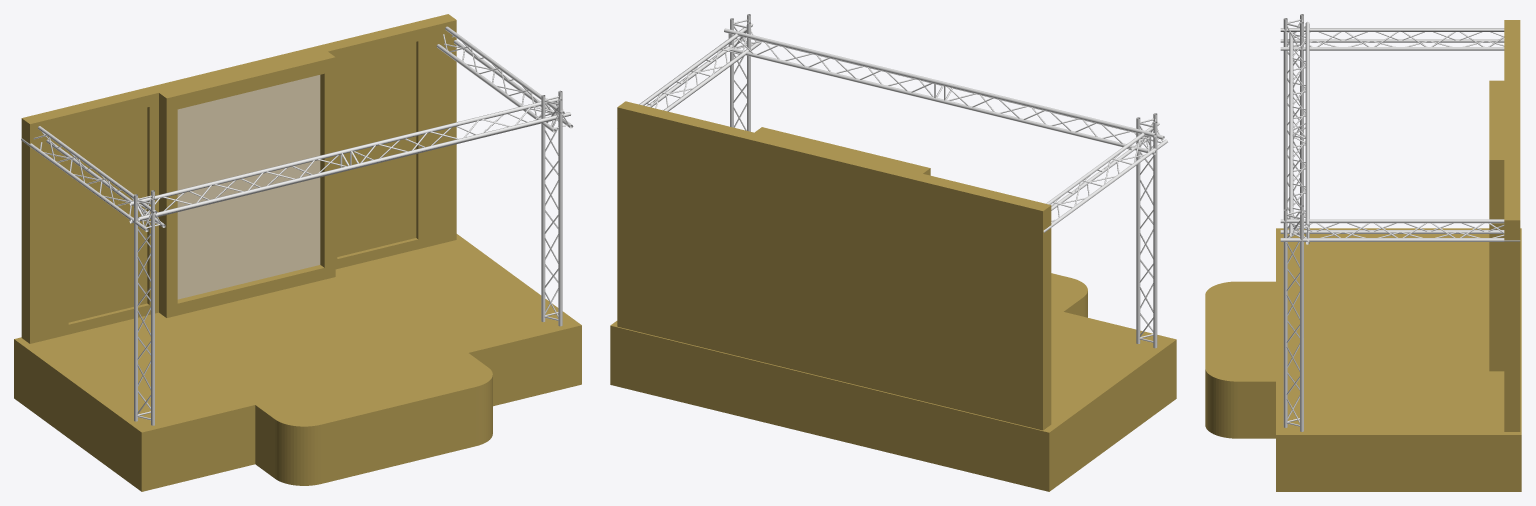
The model's file is stage.gltf.
3 renders of one model, left to right at view 1: azimuth 30°, elevation 25°; view 2: azimuth 150°, elevation 25°; view 3: azimuth 270°, elevation 25°, orthographic. The views are drawn at different scales.
Parts seen in each view (by area): view 1: Plane.001, Plane, Truss, Truss.001, Truss.003; view 2: Plane.001, Plane, Truss.001, Truss.003, Truss; view 3: Plane, Plane.001, Truss.003, Truss, Truss.001.
Part boxes in pixels (<box>): Plane.001: <box>21,14,456,343</box>; Plane: <box>14,234,581,491</box>; Truss: <box>134,90,562,425</box>; Truss.001: <box>129,98,571,223</box>; Truss.003: <box>21,26,573,231</box>; Plane.001: <box>617,101,1051,430</box>; Plane: <box>610,273,1176,491</box>; Truss.001: <box>724,28,1164,154</box>; Truss.003: <box>639,23,1167,232</box>; Truss: <box>730,14,1157,348</box>; Plane: <box>1205,228,1521,491</box>; Plane.001: <box>1489,20,1520,431</box>; Truss.003: <box>1280,28,1520,241</box>; Truss: <box>1283,14,1303,431</box>; Truss.001: <box>1289,21,1309,244</box>.
Bounding box in the file's own units: 15.15 × 9.38 × 9.81.
